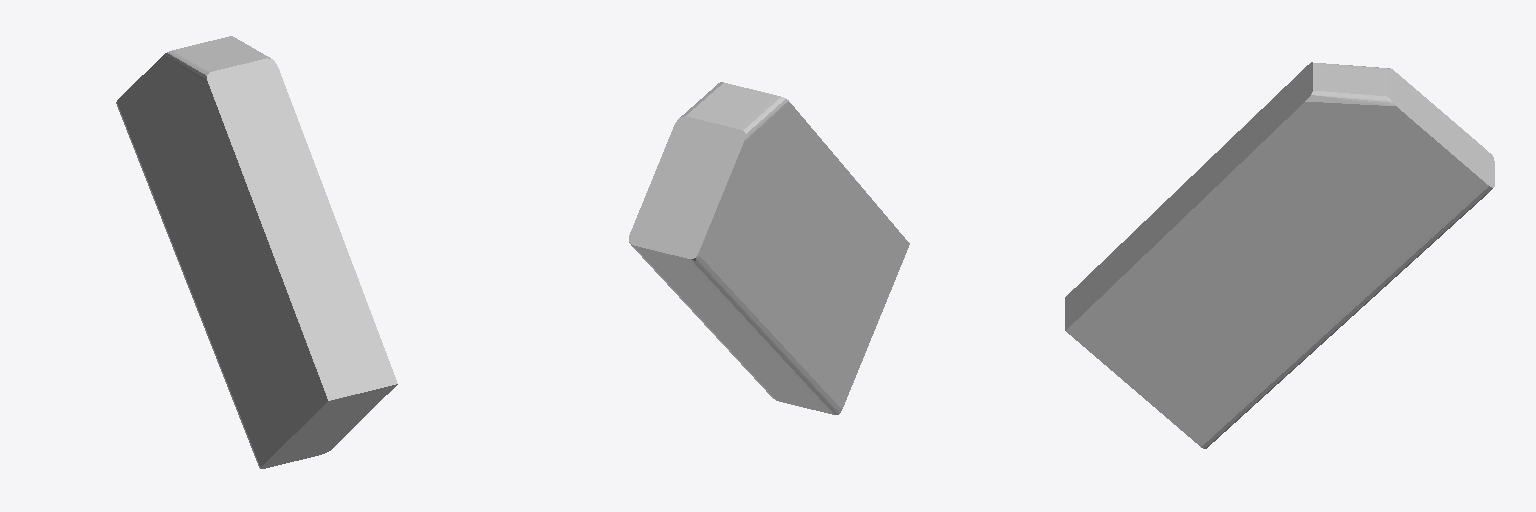
File: Carbon_Mov_Finger_021_v1_1_mesh_collision_11.obj
3 renders of one model, left to right at view 1: azimuth 30°, elevation 25°; view 2: azimuth 150°, elevation 25°; view 3: azimuth 270°, elevation 25°, orthographic.
Bounding box in the file's own units: 0.0033 × 0.0161 × 0.0174.